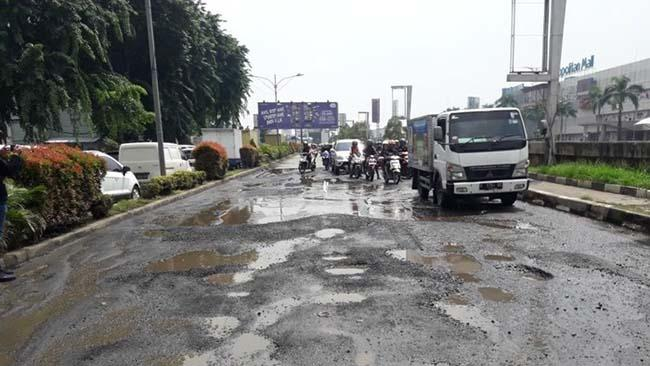Pothole: (0, 223, 319, 366), (179, 168, 532, 235), (287, 230, 582, 306)
